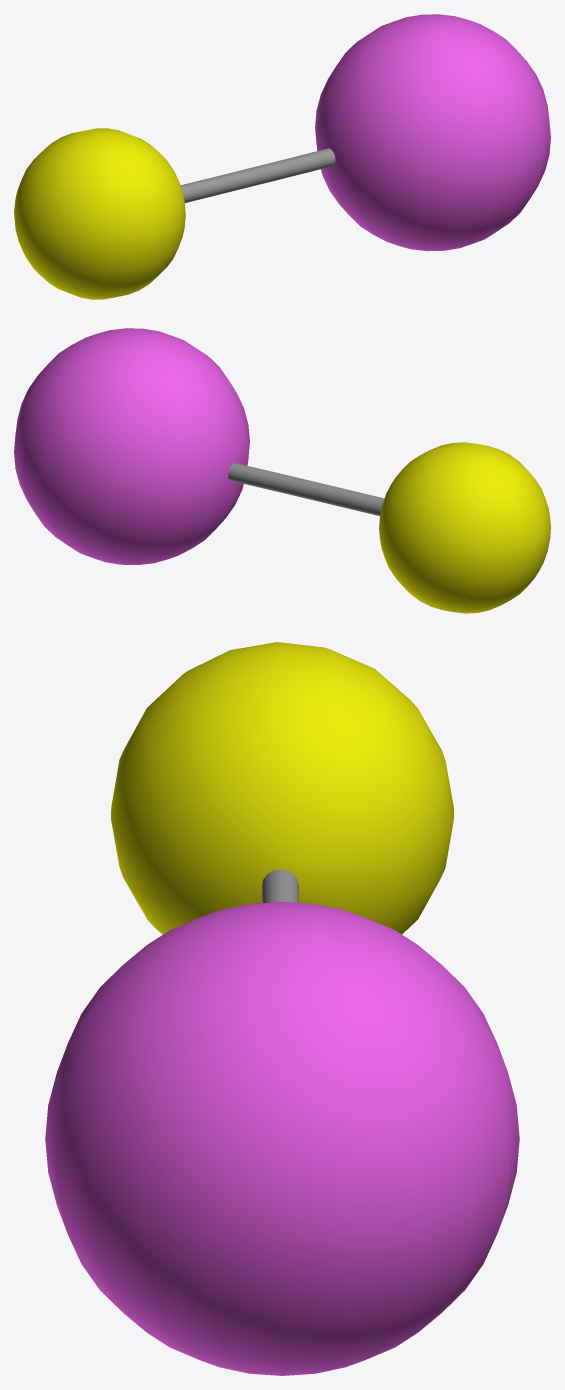
Rendered from LiH.fbx.
3 renders of one model, top to bottom at view 1: azimuth 30°, elevation 25°; view 2: azimuth 150°, elevation 25°; view 3: azimuth 270°, elevation 25°, orthographic. The views are drawn at different scales.
Visible parts, largest first — view 1: LiH; view 2: LiH; view 3: LiH.
Boxes of the visible parts, box(x1,y1,x2,y2) form: LiH: box(14, 14, 550, 299); LiH: box(14, 328, 550, 613); LiH: box(45, 642, 519, 1375).
Bounding box in the file's own units: 5.71 × 2.3 × 2.3.
